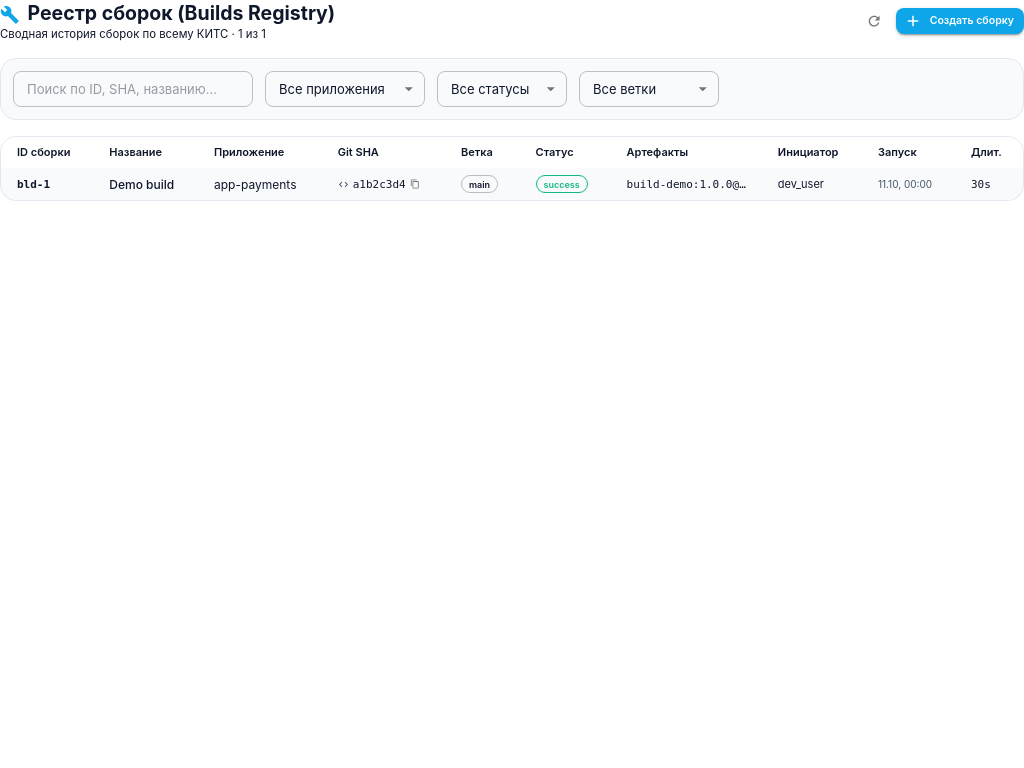
Test: COS-022: Control Station Core Views › COS-198: BuildsRegistry — детали сборки: digest, реальные логи, evidence
The image size is (1024, 768).
Click the text "Demo build" at (146, 185), box [93,170,198,200]
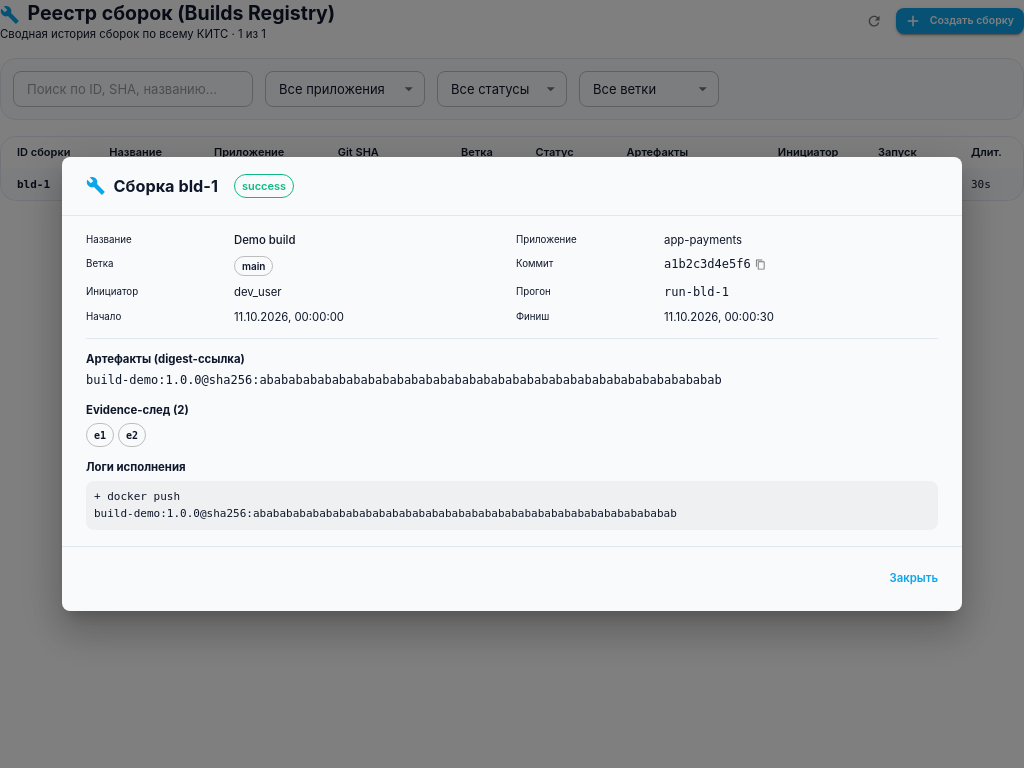
Now the text "run-bld-1" is shown, box [664,285,729,299]
Now the text "e1" is shown, box [94,430,106,441]
Now the heading "Логи исполнения" is shown, box [86,460,186,474]
